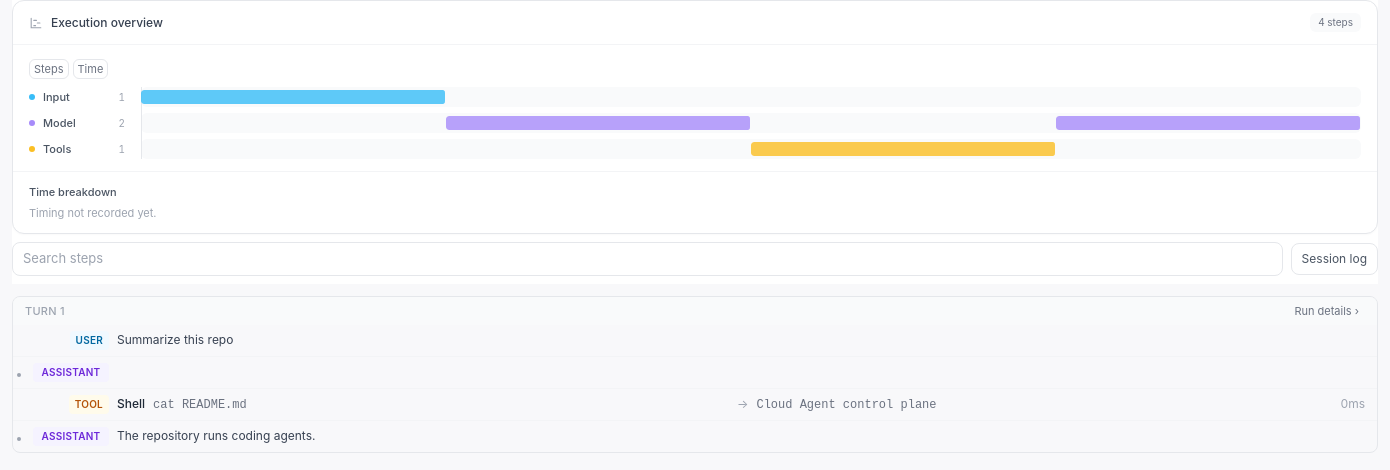
Test case: TrajectoryView › reads as user, assistant tool request, tool input and output with a recorded hierarchy
The image size is (1390, 470).
Check: the text "Summarize this repo" is shown, box [117,332,233,347]
Check: the text "cat README.md" is shown, box [153,398,247,412]
In the search field labelled "Search steps": [647, 259] box [12,242,1283,276], type "control plane"
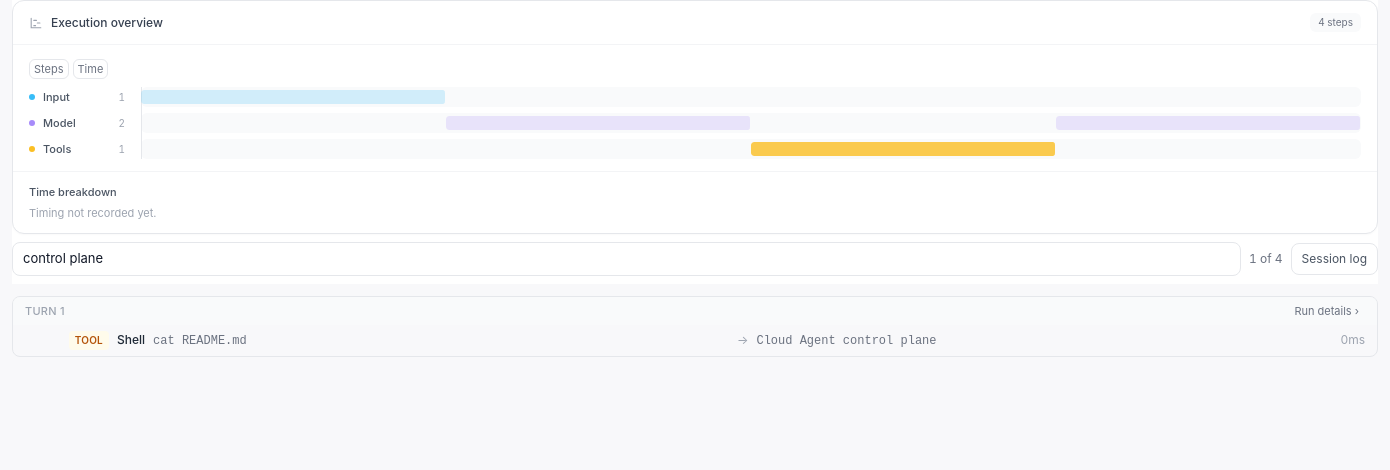
Check: the text "Shell" is shown, box [117,331,145,349]
Check: the text "1 of 4" is shown, box [1249,250,1283,268]
